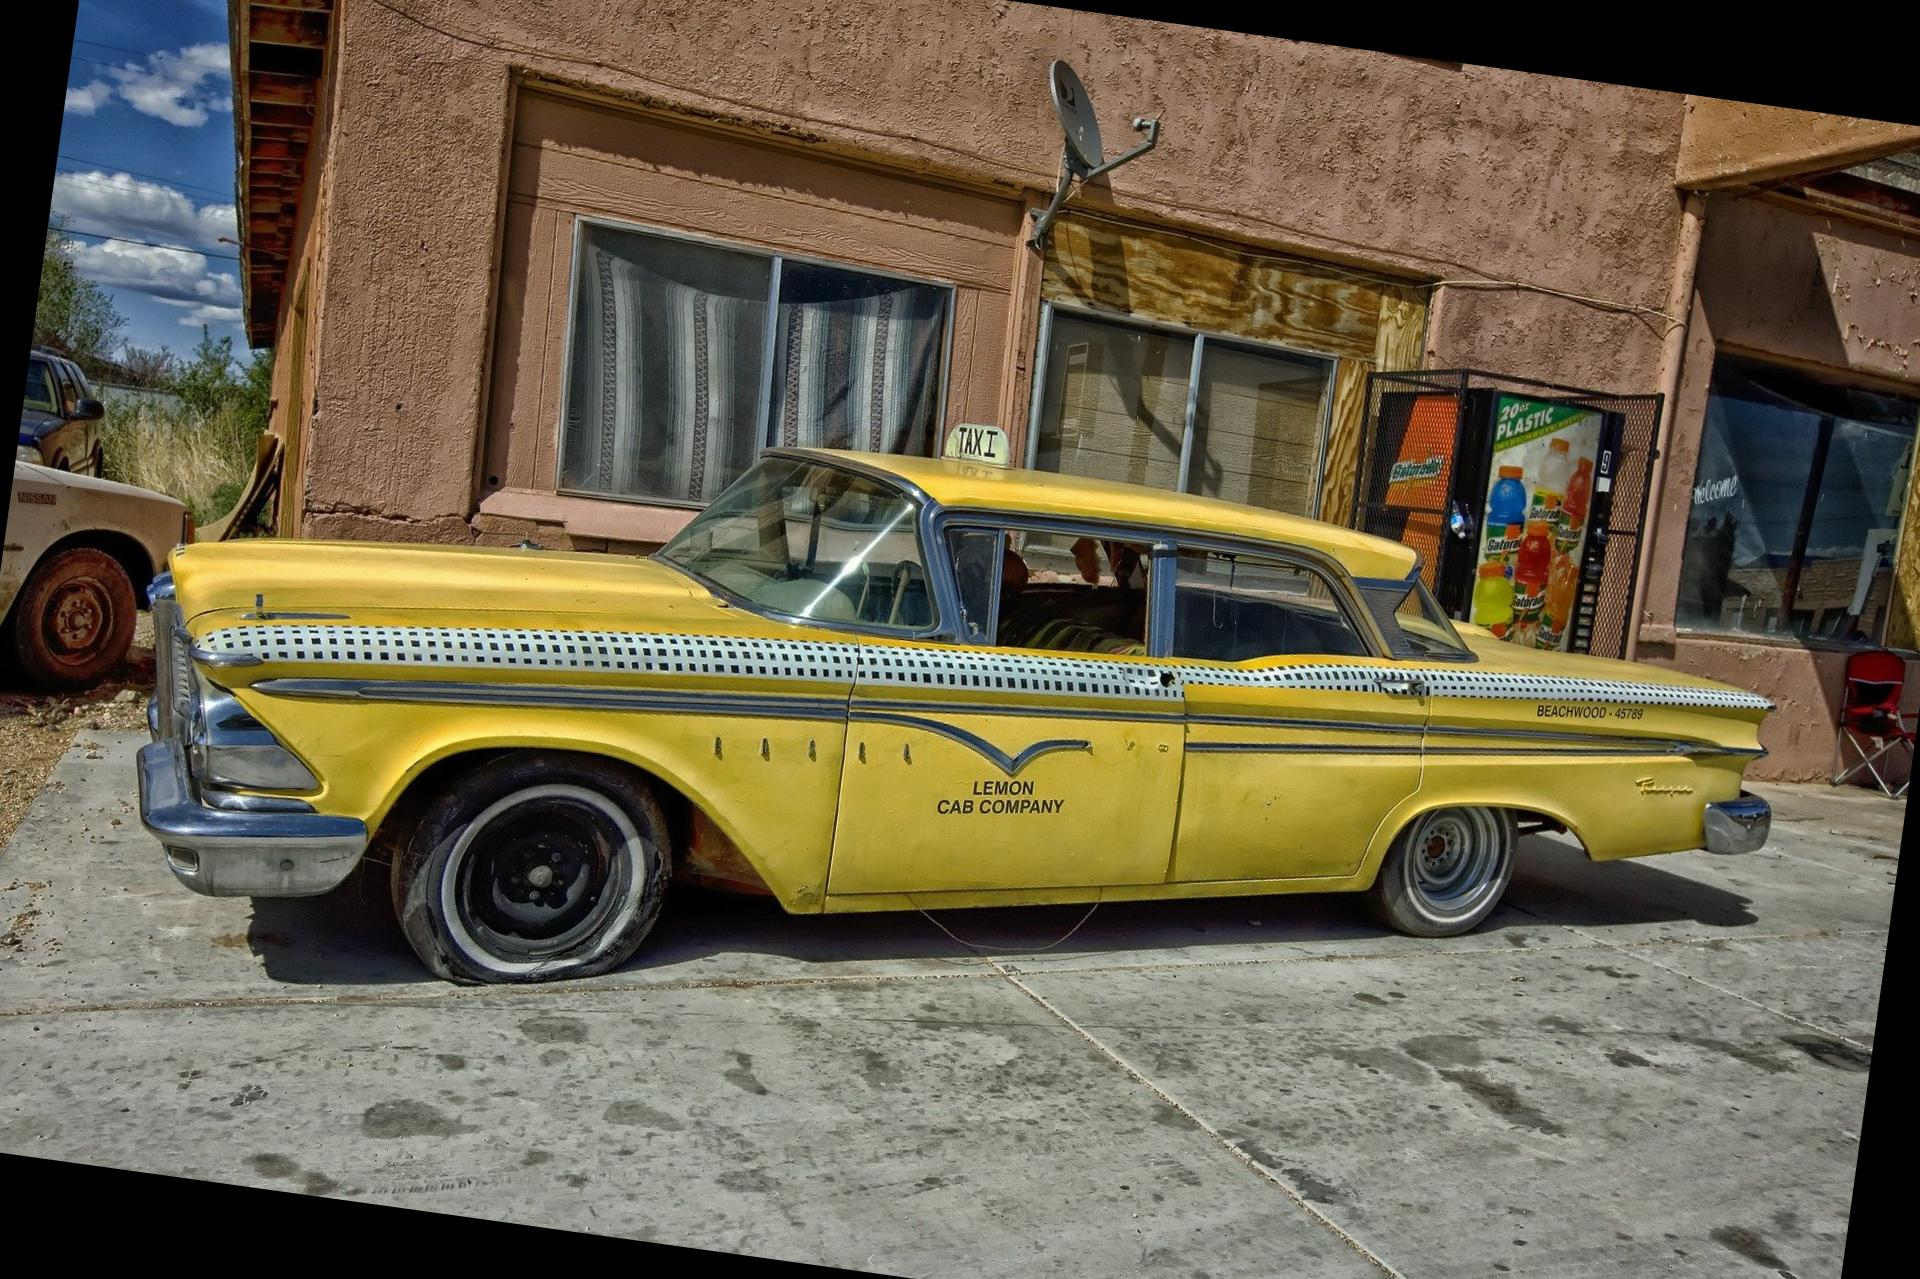taxi: (120, 433, 1817, 994)
